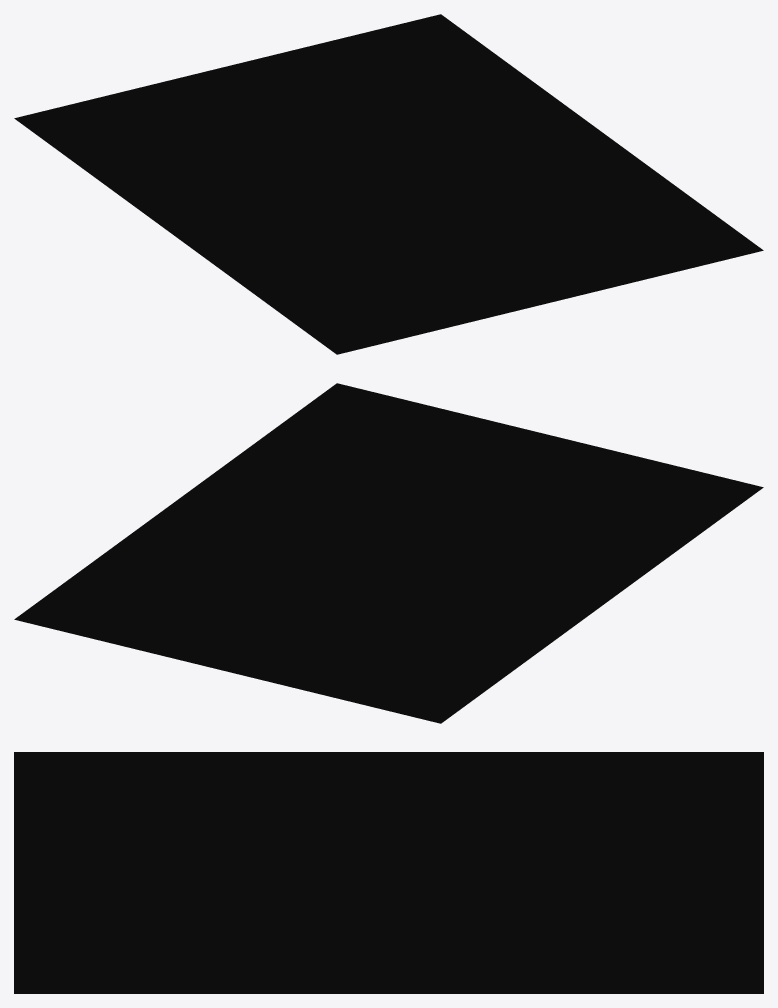
File: card.glb
The picture shows the model from 3 angles, top to bottom: view 1: azimuth 30°, elevation 25°; view 2: azimuth 150°, elevation 25°; view 3: azimuth 270°, elevation 25°; orthographic projection. The views are drawn at different scales.
Parts seen in each view (by area): view 1: Card; view 2: Card; view 3: Card.
Part boxes in pixels (left/top/right/bottom): Card: left=14, top=14, right=763, bottom=354; Card: left=14, top=383, right=763, bottom=723; Card: left=14, top=752, right=763, bottom=993.
Size of the model in its own units: 4.63 by 0.0103 by 6.07.
2 materials, 2 textured.
